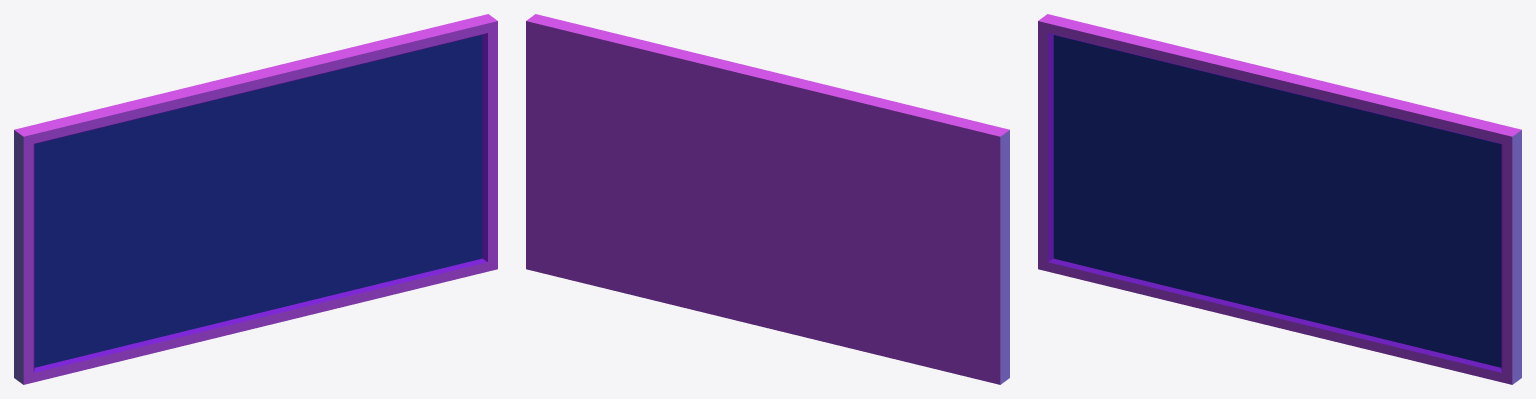
File: 3D_Map_RoundSystem_Billboard.fbx
The picture shows the model from 3 angles, left to right: view 1: azimuth 30°, elevation 25°; view 2: azimuth 150°, elevation 25°; view 3: azimuth 330°, elevation 25°; orthographic projection.
Parts seen in each view (by area): view 1: GEO_Billboard_20x10; view 2: GEO_Billboard_20x10; view 3: GEO_Billboard_20x10.
Part boxes in pixels (x1,y1,x2,y2): GEO_Billboard_20x10: [14, 14, 497, 384]; GEO_Billboard_20x10: [526, 14, 1009, 384]; GEO_Billboard_20x10: [1038, 14, 1521, 384].
Bounding box in the file's own units: 20 × 0.7 × 10.
